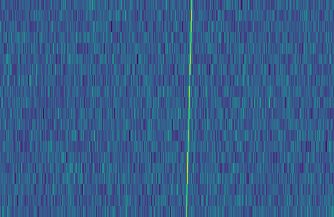signal: (181, 0, 196, 217)
